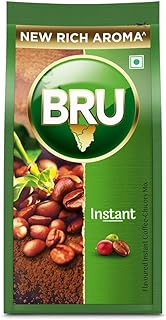Coffee: (5, 2, 161, 316)
